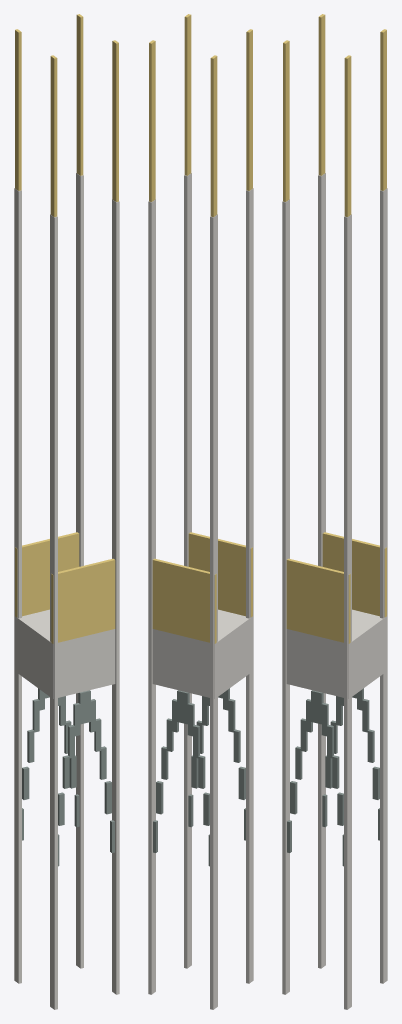
File: pont_alexandre_iii.glb
The picture shows the model from 3 angles, left to right: view 1: azimuth 30°, elevation 25°; view 2: azimuth 150°, elevation 25°; view 3: azimuth 330°, elevation 25°; orthographic projection.
Visible parts, largest first — view 1: pont_alexandre_iii.glb; view 2: pont_alexandre_iii.glb; view 3: pont_alexandre_iii.glb.
Boxes of the visible parts, x1,y1,x2,y2 form: pont_alexandre_iii.glb: (14, 14, 119, 1009); pont_alexandre_iii.glb: (148, 14, 253, 1009); pont_alexandre_iii.glb: (282, 14, 387, 1009).
Bounding box in the file's own units: 1 × 13.8 × 1.06.
